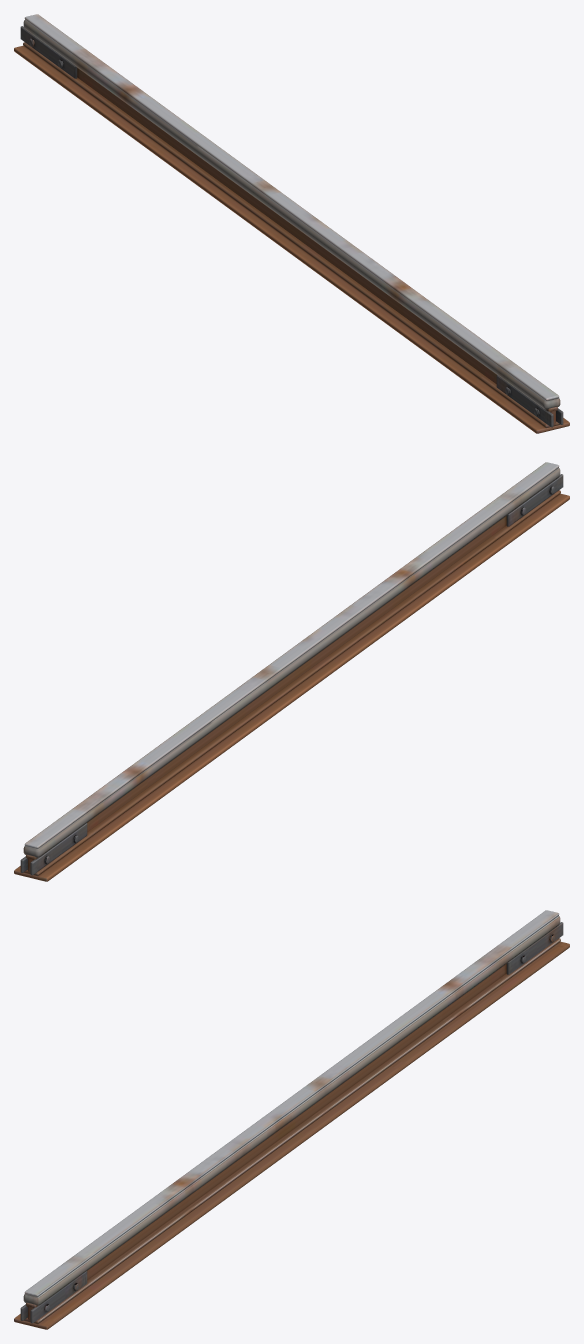
The model's file is rail.glb.
The picture shows the model from 3 angles, top to bottom: view 1: azimuth 30°, elevation 25°; view 2: azimuth 150°, elevation 25°; view 3: azimuth 330°, elevation 25°; orthographic projection.
Visible parts, largest first — view 1: Rail; view 2: Rail; view 3: Rail.
Part boxes in pixels (bbox=[...]): Rail: bbox=[14, 14, 569, 433]; Rail: bbox=[14, 462, 569, 881]; Rail: bbox=[14, 910, 569, 1329].
Bounding box in the file's own units: 0.15 × 0.139 × 4.06.
4 materials, 4 textured.
